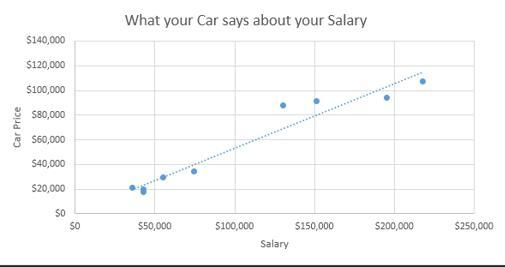axis: (72, 210, 477, 217), (71, 35, 78, 217)
point: (416, 74, 431, 86), (188, 167, 200, 178), (381, 92, 393, 103), (278, 100, 289, 111), (158, 174, 170, 183), (312, 97, 323, 106), (128, 183, 138, 192), (139, 183, 148, 192), (139, 190, 148, 198)
